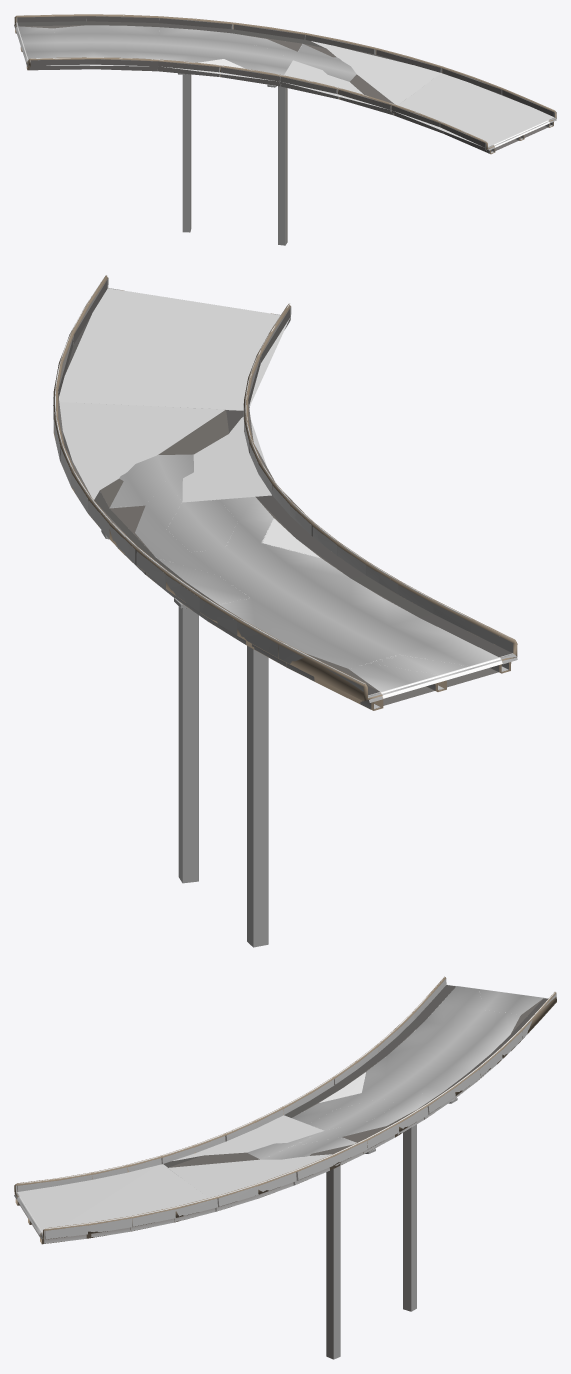
File: ut_bridge_small_curve.dae
The picture shows the model from 3 angles, top to bottom: view 1: azimuth 30°, elevation 25°; view 2: azimuth 150°, elevation 25°; view 3: azimuth 270°, elevation 25°; orthographic projection. The views are drawn at different scales.
Visible parts, largest first — view 1: Colmesh_ut_bridge_small_curve-1, ut_bridge_small_curve_a200, ut_bridge_small_curve_a50, ut_bridge_small_curve_a3000, ut_bridge_small_curve_a1000; view 2: Colmesh_ut_bridge_small_curve-1, ut_bridge_small_curve_a50, ut_bridge_small_curve_a3000, ut_bridge_small_curve_a200, ut_bridge_small_curve_a1000; view 3: Colmesh_ut_bridge_small_curve-1, ut_bridge_small_curve_a50, ut_bridge_small_curve_a3000, ut_bridge_small_curve_a1000, ut_bridge_small_curve_a200.
Boxes of the visible parts, x1=… form: Colmesh_ut_bridge_small_curve-1: x1=14, y1=14, x2=556, y2=244; ut_bridge_small_curve_a200: x1=17, y1=16, x2=553, y2=153; ut_bridge_small_curve_a50: x1=16, y1=22, x2=553, y2=146; ut_bridge_small_curve_a3000: x1=14, y1=15, x2=556, y2=245; ut_bridge_small_curve_a1000: x1=15, y1=16, x2=556, y2=153; Colmesh_ut_bridge_small_curve-1: x1=53, y1=275, x2=517, y2=710; ut_bridge_small_curve_a50: x1=59, y1=288, x2=512, y2=695; ut_bridge_small_curve_a3000: x1=53, y1=277, x2=517, y2=947; ut_bridge_small_curve_a200: x1=53, y1=279, x2=512, y2=705; ut_bridge_small_curve_a1000: x1=53, y1=274, x2=513, y2=708; Colmesh_ut_bridge_small_curve-1: x1=14, y1=976, x2=556, y2=1359; ut_bridge_small_curve_a50: x1=17, y1=984, x2=548, y2=1232; ut_bridge_small_curve_a3000: x1=14, y1=977, x2=556, y2=1359; ut_bridge_small_curve_a1000: x1=16, y1=979, x2=556, y2=1241; ut_bridge_small_curve_a200: x1=17, y1=985, x2=547, y2=1243.
Size of the model in its own units: 50.05 by 51.22 by 26.79.
